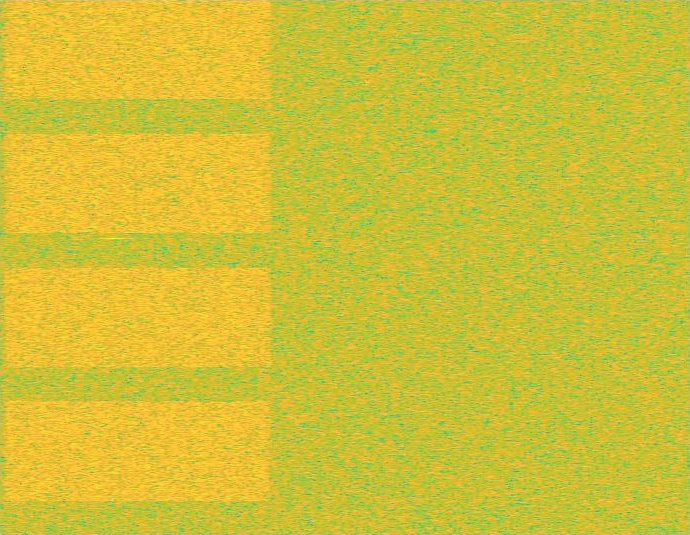5G: (0, 0, 276, 534)
Radar: (106, 0, 120, 534)
